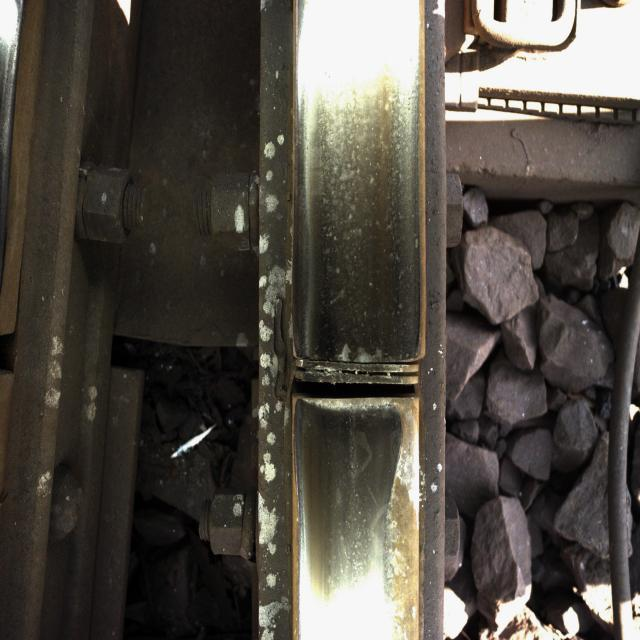spalling: (281, 319, 454, 470)
